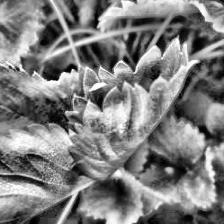Powdery Mildew Leaf: (64, 36, 200, 182), (0, 122, 96, 223), (188, 0, 224, 35)
